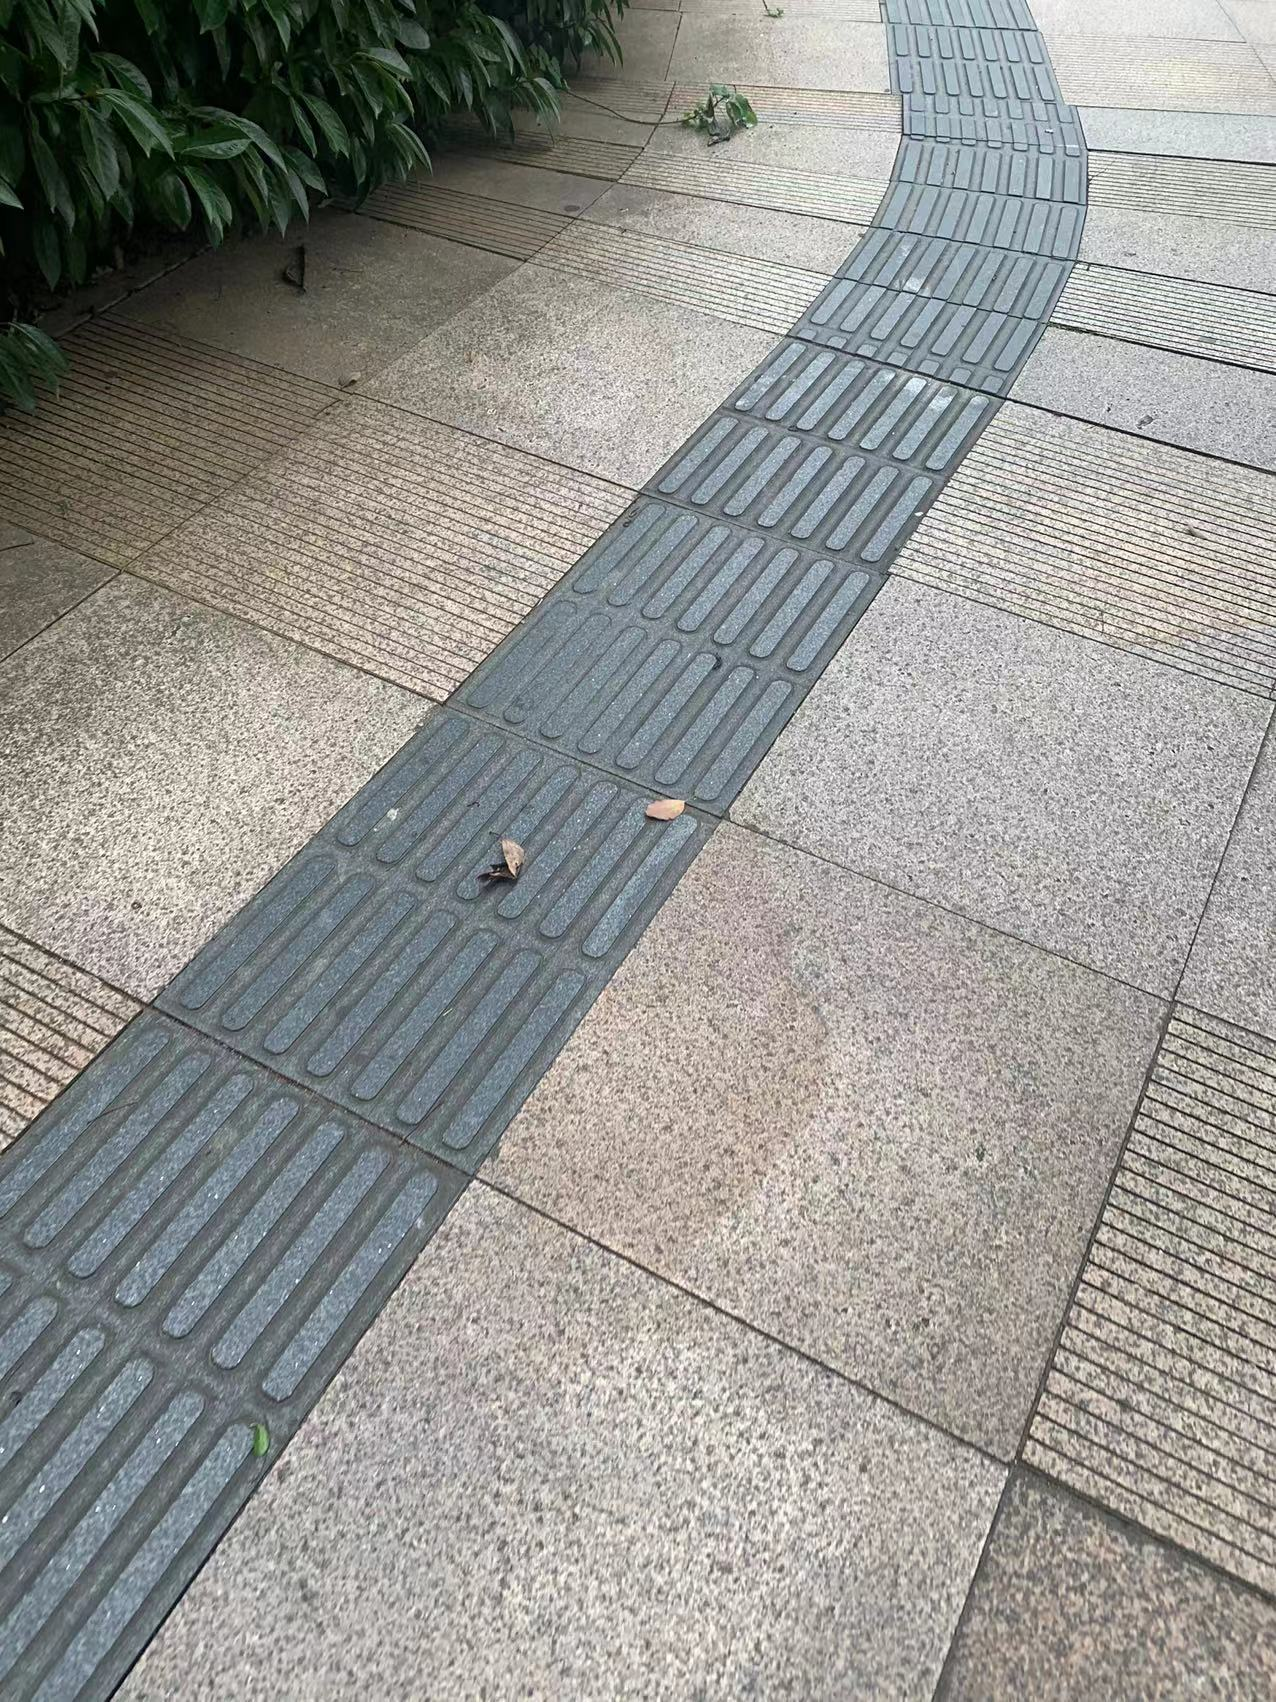leaf: (487, 836, 533, 889), (637, 791, 696, 826)
